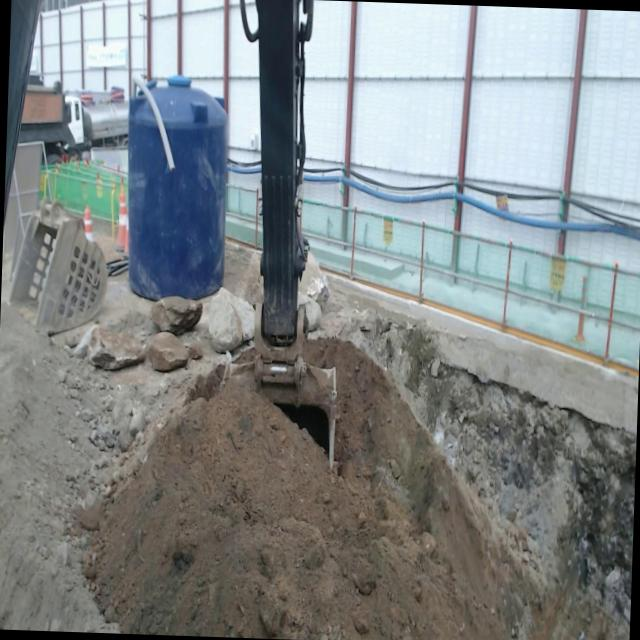asphalt: (331, 276, 638, 436)
red-sand: (0, 306, 613, 640)
stone: (208, 287, 255, 352), (87, 326, 147, 370), (298, 250, 330, 331), (151, 296, 202, 335), (147, 331, 188, 371), (239, 252, 262, 305)
